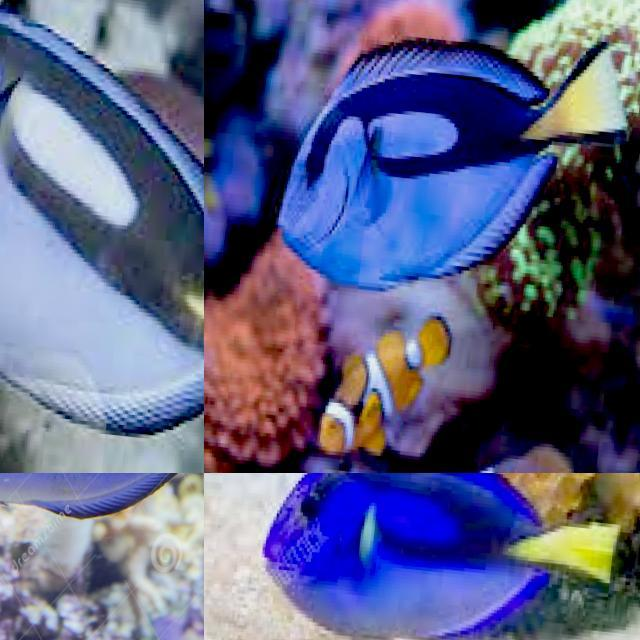BlueTang: (0, 0, 204, 473), (278, 35, 630, 284), (267, 472, 620, 635)
ClownFish: (319, 314, 451, 458)
